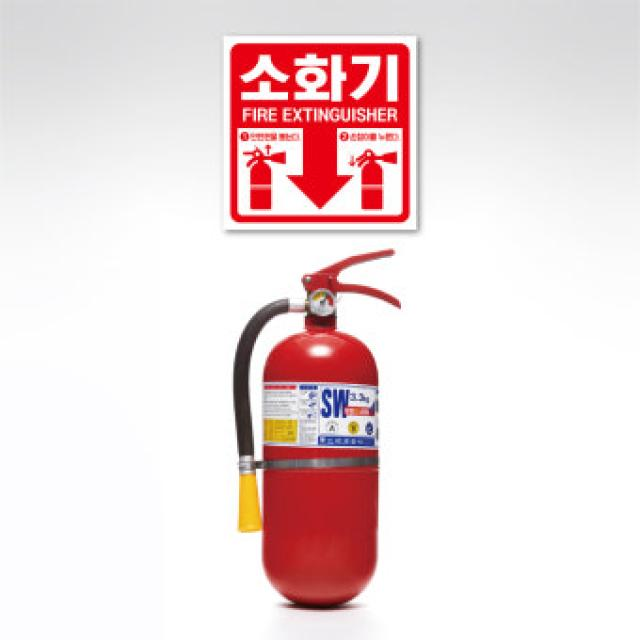pressure gauge: (309, 290, 335, 316)
